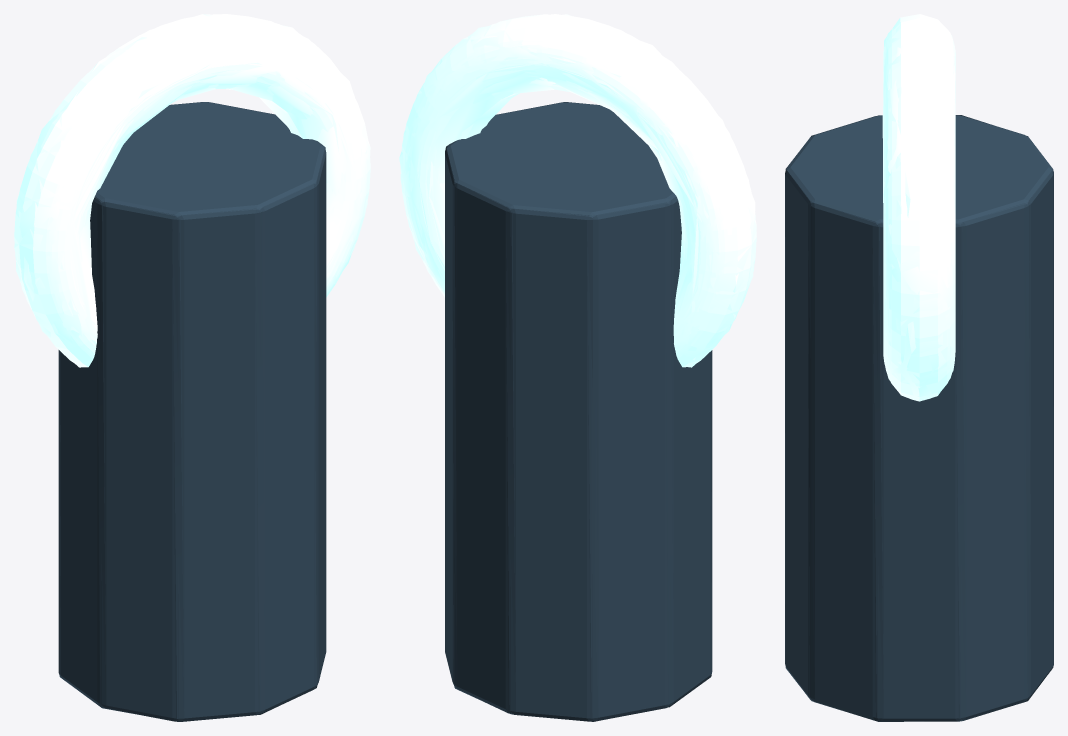
The model's file is SM_Rheinufer_Bollard.fbx.
The picture shows the model from 3 angles, left to right: view 1: azimuth 30°, elevation 25°; view 2: azimuth 150°, elevation 25°; view 3: azimuth 270°, elevation 25°; orthographic projection.
Parts seen in each view (by area): view 1: LOD0_SM_Rheinufer_Bollard, LOD1_SM_Rheinufer_Bollard, LOD3_SM_Rheinufer_Bollard, LOD2_SM_Rheinufer_Bollard; view 2: LOD0_SM_Rheinufer_Bollard, LOD1_SM_Rheinufer_Bollard, LOD3_SM_Rheinufer_Bollard, LOD2_SM_Rheinufer_Bollard; view 3: LOD0_SM_Rheinufer_Bollard, LOD1_SM_Rheinufer_Bollard, LOD2_SM_Rheinufer_Bollard, LOD3_SM_Rheinufer_Bollard.
Part boxes in pixels (left/top/right/bottom): LOD0_SM_Rheinufer_Bollard: left=14, top=14, right=370, bottom=721; LOD1_SM_Rheinufer_Bollard: left=16, top=14, right=366, bottom=720; LOD3_SM_Rheinufer_Bollard: left=16, top=14, right=370, bottom=720; LOD2_SM_Rheinufer_Bollard: left=14, top=14, right=370, bottom=721; LOD0_SM_Rheinufer_Bollard: left=400, top=14, right=756, bottom=721; LOD1_SM_Rheinufer_Bollard: left=405, top=16, right=756, bottom=721; LOD3_SM_Rheinufer_Bollard: left=399, top=14, right=755, bottom=711; LOD2_SM_Rheinufer_Bollard: left=400, top=14, right=756, bottom=721; LOD0_SM_Rheinufer_Bollard: left=785, top=17, right=1053, bottom=721; LOD1_SM_Rheinufer_Bollard: left=785, top=18, right=1053, bottom=721; LOD2_SM_Rheinufer_Bollard: left=785, top=18, right=1053, bottom=721; LOD3_SM_Rheinufer_Bollard: left=823, top=14, right=1043, bottom=721.
Size of the model in its own units: 0.6422 by 1.14 by 0.4365.
